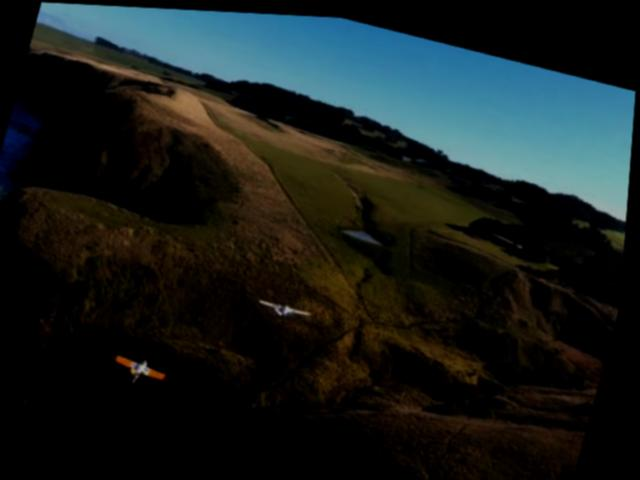uav: (110, 350, 180, 388), (259, 292, 321, 321)
